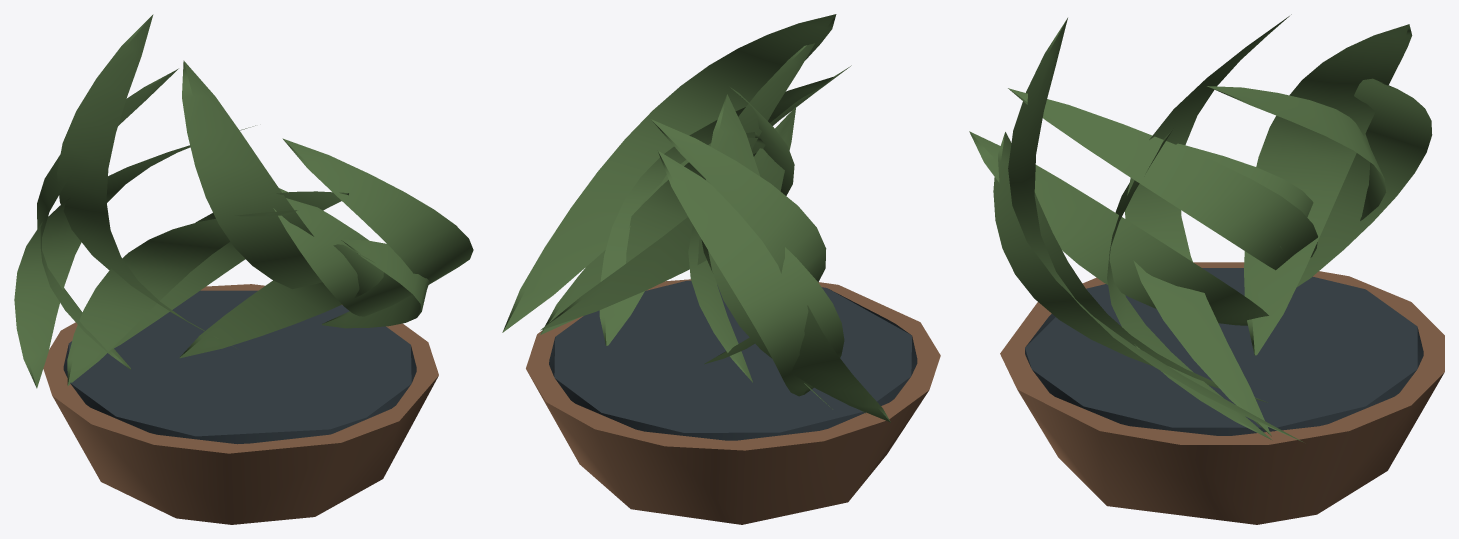
Rendered from plant-14-4.lod.glb.
The picture shows the model from 3 angles, left to right: view 1: azimuth 30°, elevation 25°; view 2: azimuth 150°, elevation 25°; view 3: azimuth 270°, elevation 25°; orthographic projection. The views are drawn at different scales.
Parts seen in each view (by area): view 1: part (×12); view 2: part (×12); view 3: part (×12).
Part boxes in pixels (x1,y1,x2,y2): part (×12): (14, 14, 473, 524); part (×12): (502, 14, 940, 524); part (×12): (969, 14, 1444, 524).
Bounding box in the file's own units: 1 × 1 × 1.
